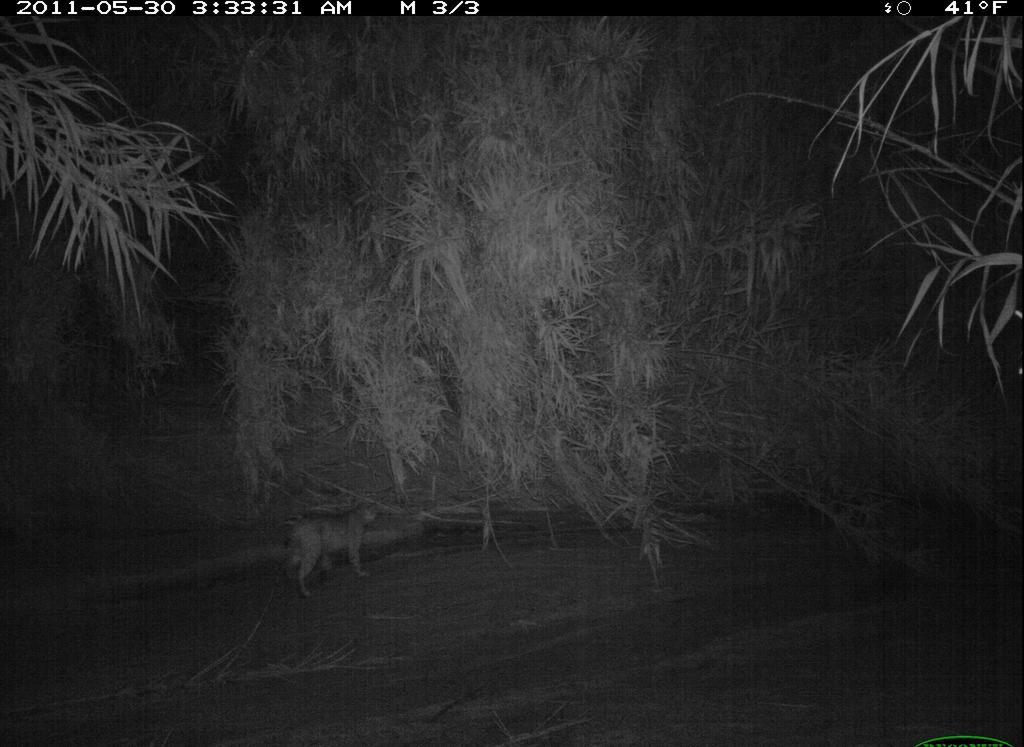bobcat: (273, 493, 382, 602)
